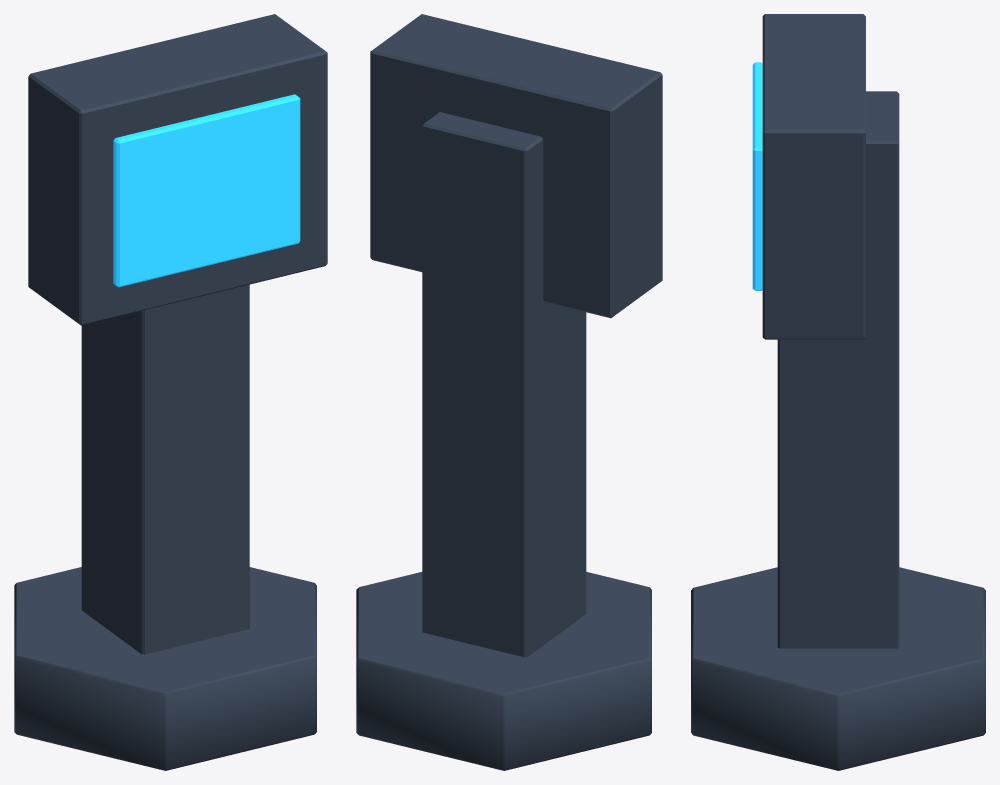
The model's file is data_terminal_01.glb.
The picture shows the model from 3 angles, left to right: view 1: azimuth 30°, elevation 25°; view 2: azimuth 150°, elevation 25°; view 3: azimuth 270°, elevation 25°; orthographic projection. The views are drawn at different scales.
Parts seen in each view (by area): view 1: data_terminal_01; view 2: data_terminal_01; view 3: data_terminal_01.
Part boxes in pixels (<box>): data_terminal_01: <box>14,14,327,770</box>; data_terminal_01: <box>356,14,662,770</box>; data_terminal_01: <box>691,14,985,770</box>.
Size of the model in its own units: 0.556 by 1.14 by 0.485.
